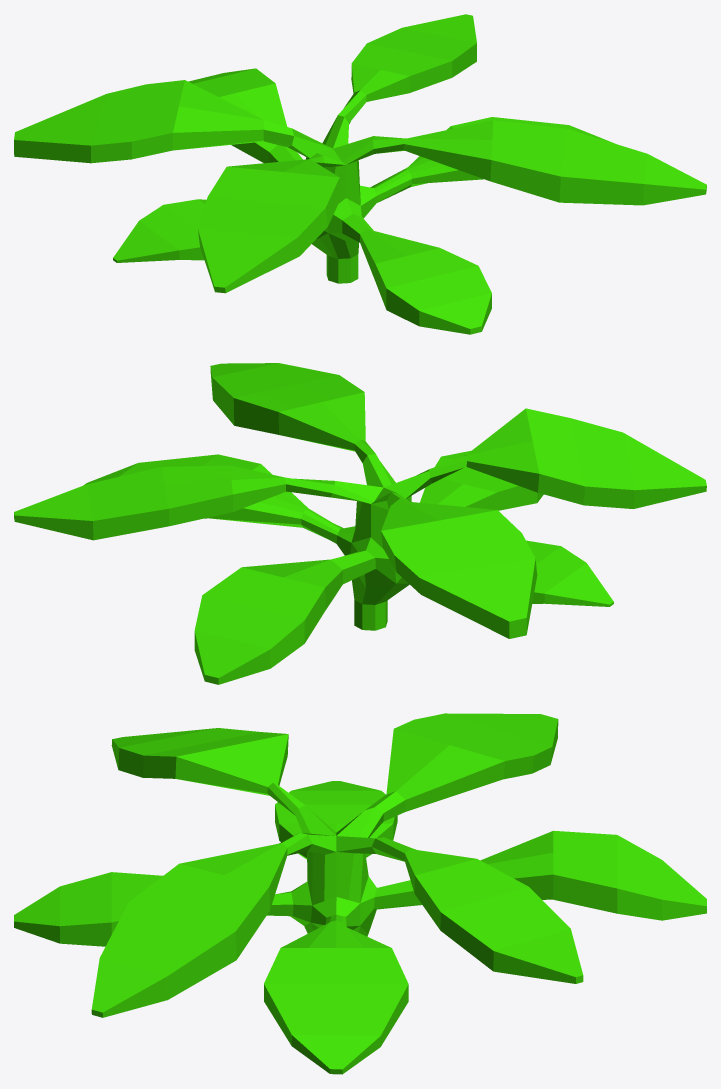
Rendered from Helecho_03.fbx.
3 renders of one model, top to bottom at view 1: azimuth 30°, elevation 25°; view 2: azimuth 150°, elevation 25°; view 3: azimuth 270°, elevation 25°, orthographic. The views are drawn at different scales.
Parts seen in each view (by area): view 1: SM_Helecho_03; view 2: SM_Helecho_03; view 3: SM_Helecho_03.
Boxes of the visible parts, x1,y1,x2,y2 form: SM_Helecho_03: (14,14,706,334); SM_Helecho_03: (14,363,706,684); SM_Helecho_03: (14,713,706,1074).
Bounding box in the file's own units: 56.65 × 17.99 × 58.84.
